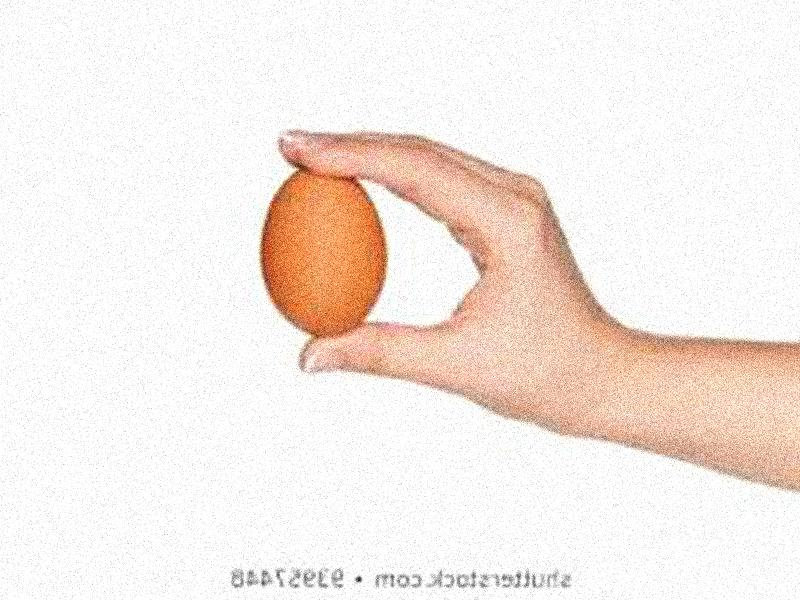Eggs: (261, 158, 384, 338)
